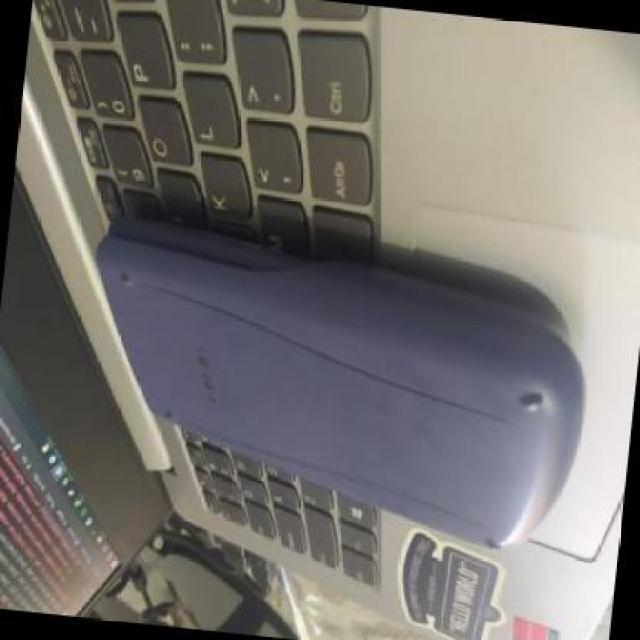Calculator: (61, 182, 605, 566)
